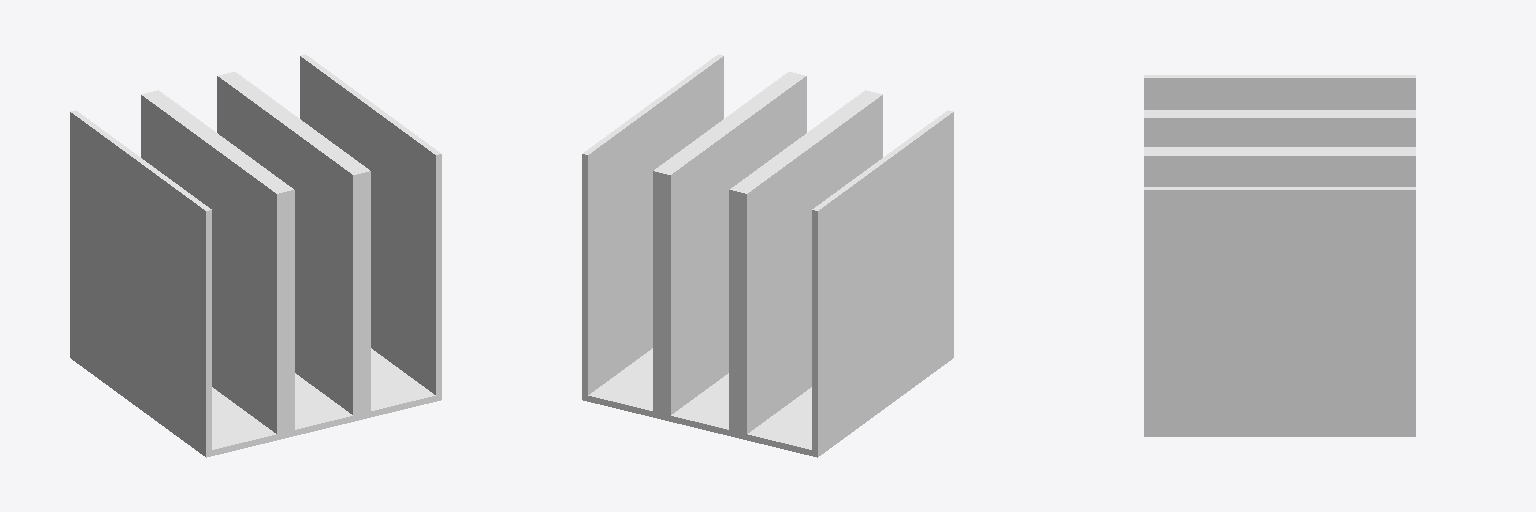
The model's file is Corredor.obj.
3 renders of one model, left to right at view 1: azimuth 30°, elevation 25°; view 2: azimuth 150°, elevation 25°; view 3: azimuth 270°, elevation 25°, orthographic.
Visible parts, largest first — view 1: Corredor; view 2: Corredor; view 3: Corredor.
Part boxes in pixels (bbox=[...]): Corredor: bbox=[70, 54, 441, 457]; Corredor: bbox=[582, 54, 953, 457]; Corredor: bbox=[1144, 75, 1415, 436].
Size of the model in its own units: 40 by 40 by 40.